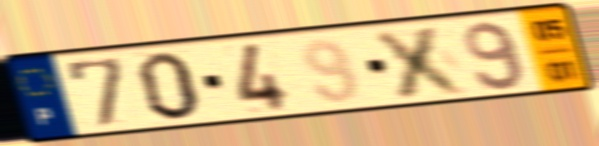0: (134, 49, 204, 122)
4: (233, 40, 292, 114)
7: (63, 54, 126, 129)
9: (460, 18, 528, 92), (301, 37, 361, 106)
X: (368, 21, 474, 101)
